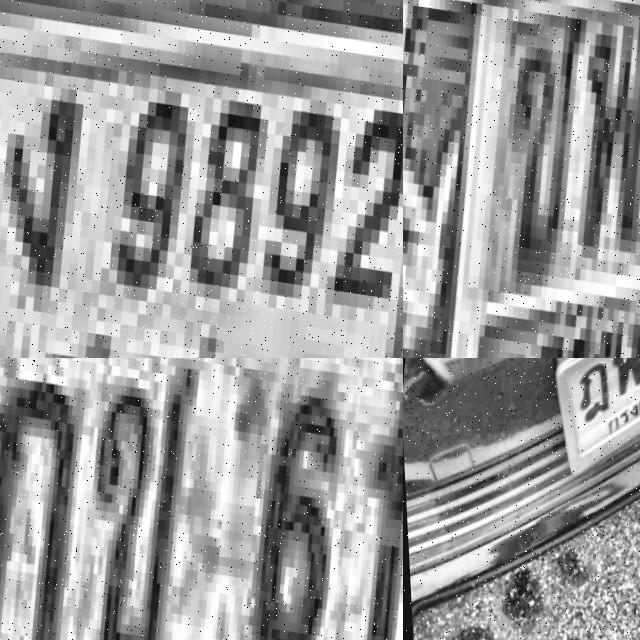license-plate: (0, 0, 403, 358), (0, 358, 403, 640), (403, 0, 640, 358), (526, 358, 640, 509)
